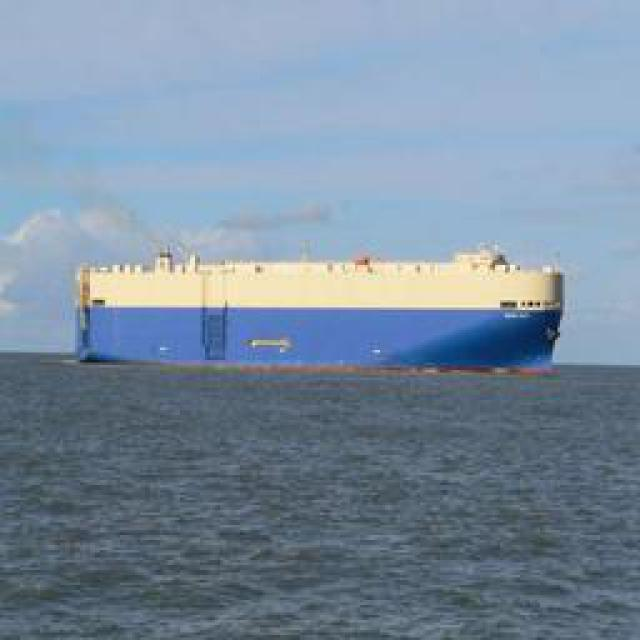Ship: (99, 250, 564, 370)
